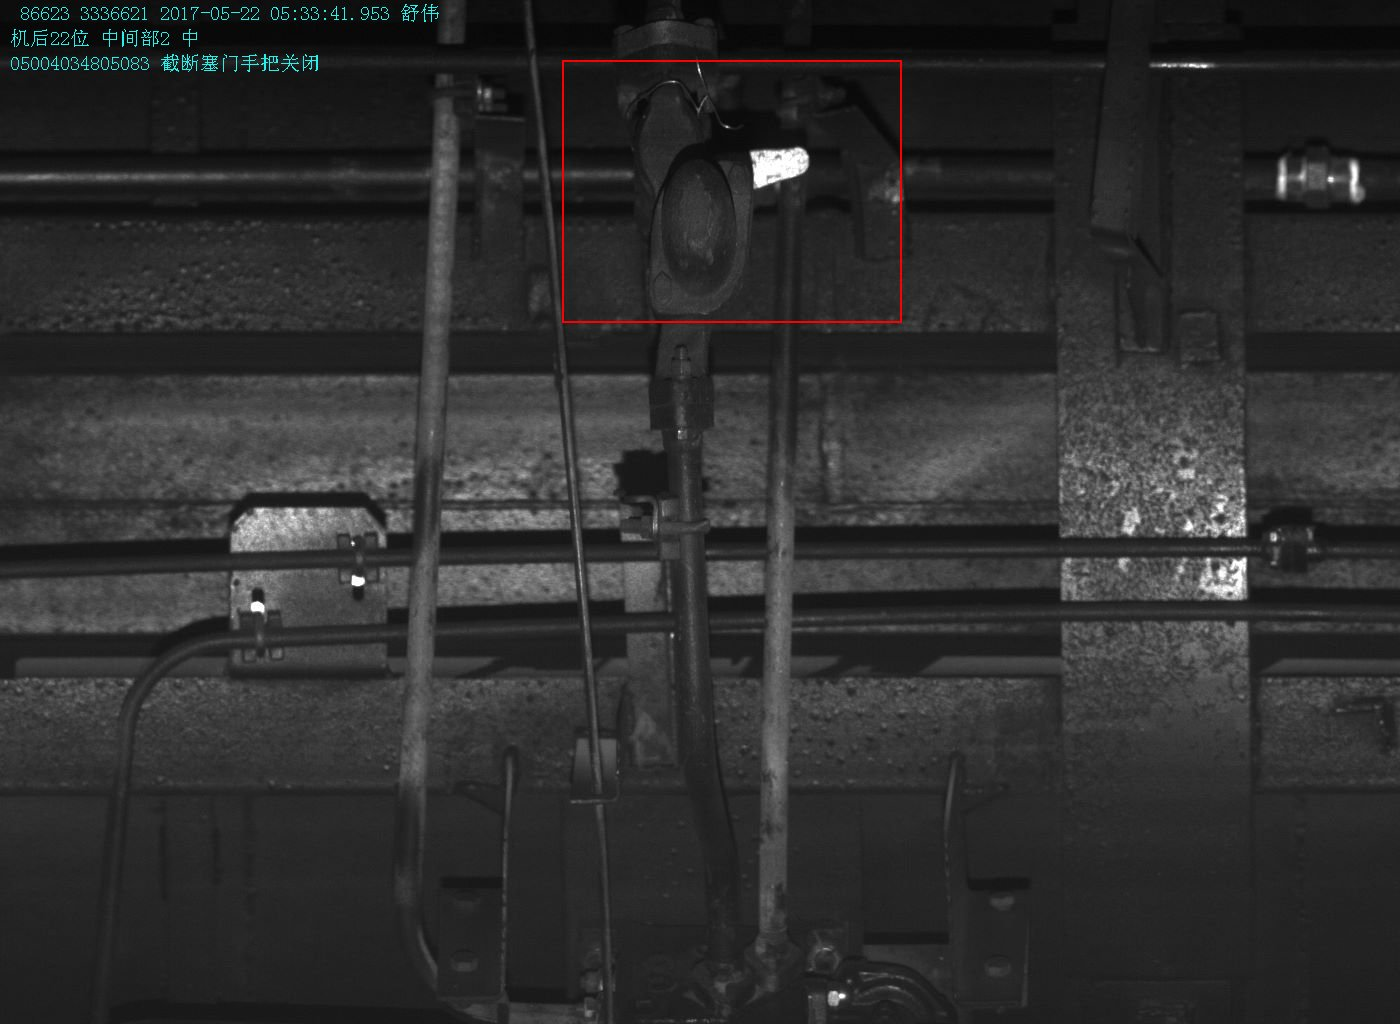truncated plug door handle: (632, 84, 810, 203)
